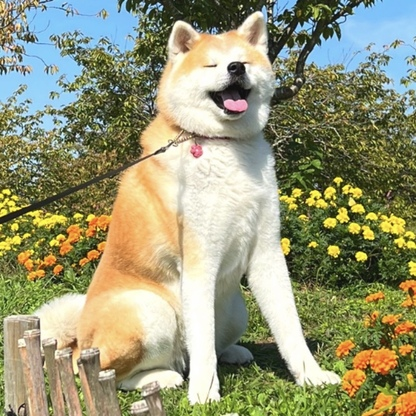akita: (27, 8, 346, 409)
